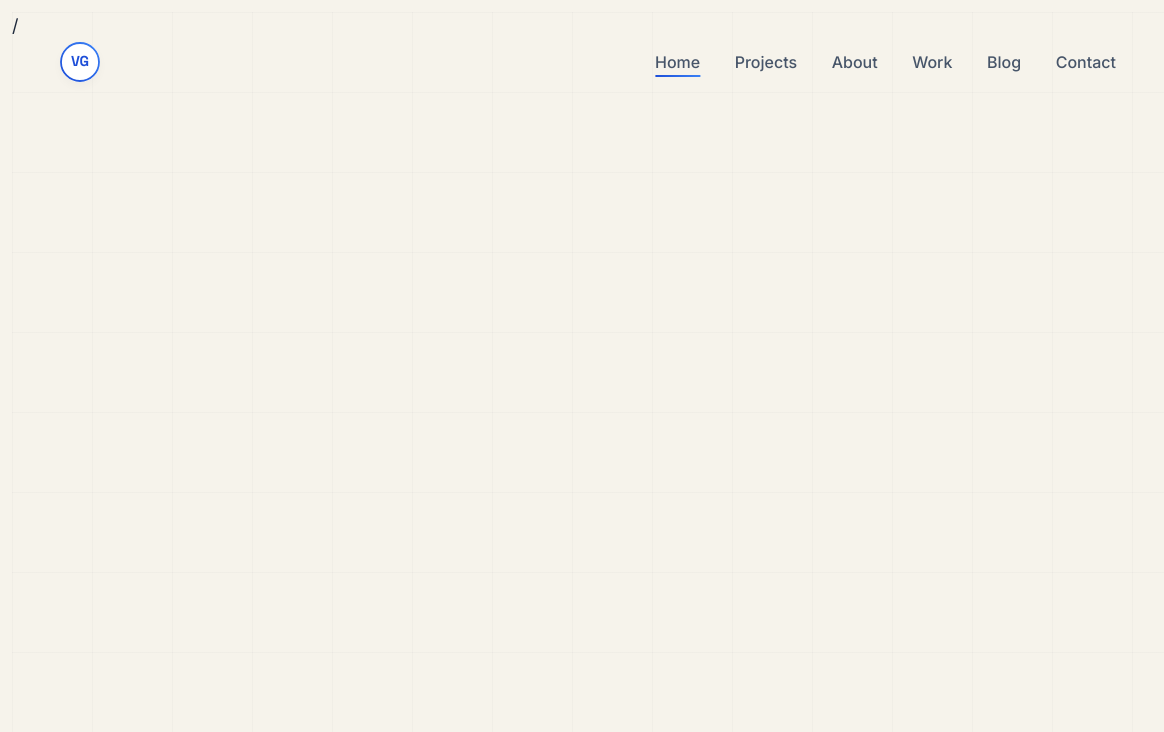
Test: Navigation › navigates from / without timers
Step 1. Click the link "Projects" → click(766, 62), box top-left (735, 52), bottom-right (797, 72)
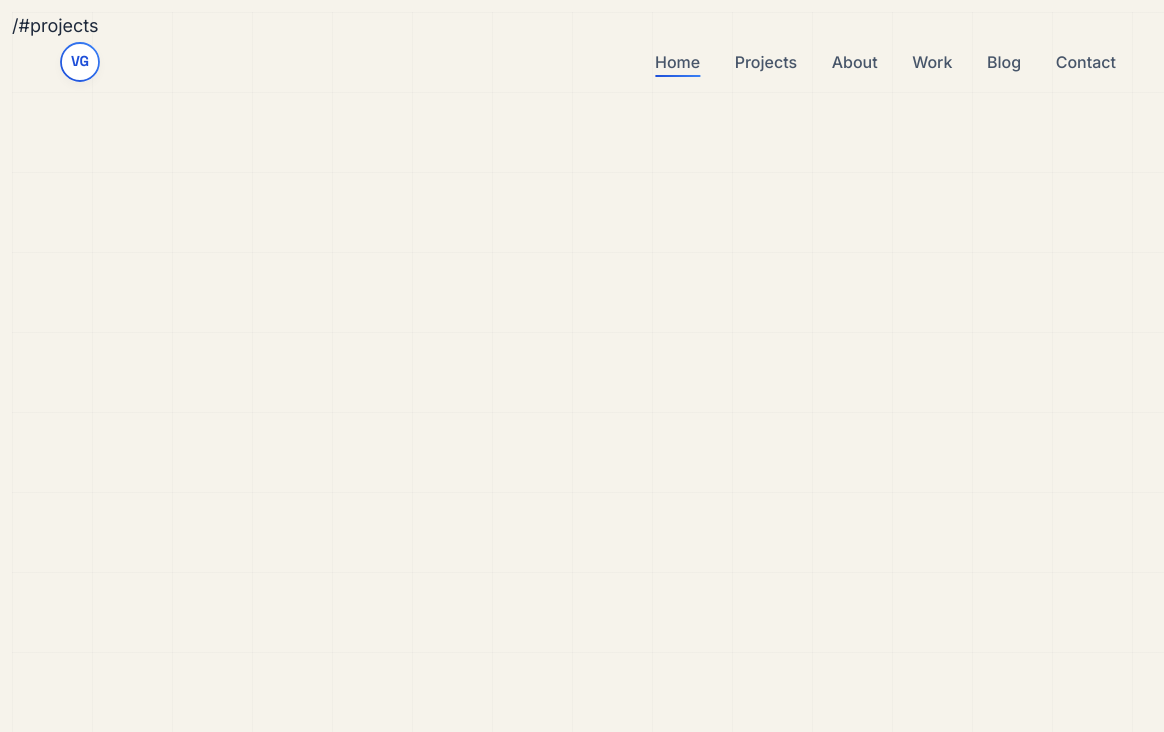
Now the text with test id "location" reads "/#projects", box top-left (12, 15), bottom-right (98, 36)
